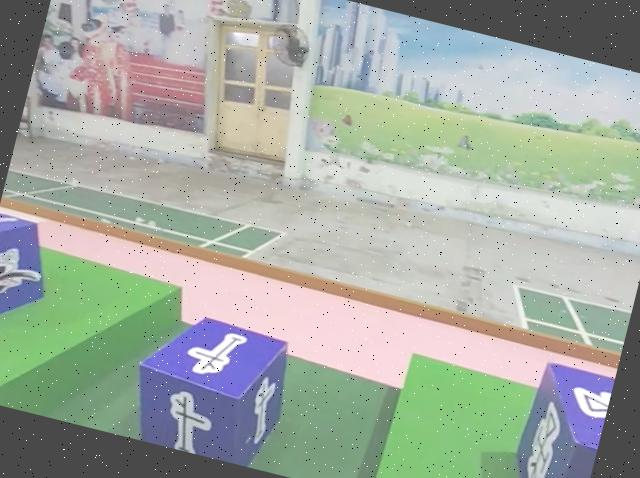R1 Blue: (0, 209, 60, 349)
R2 Real Blue: (121, 303, 298, 472), (498, 357, 616, 478)
